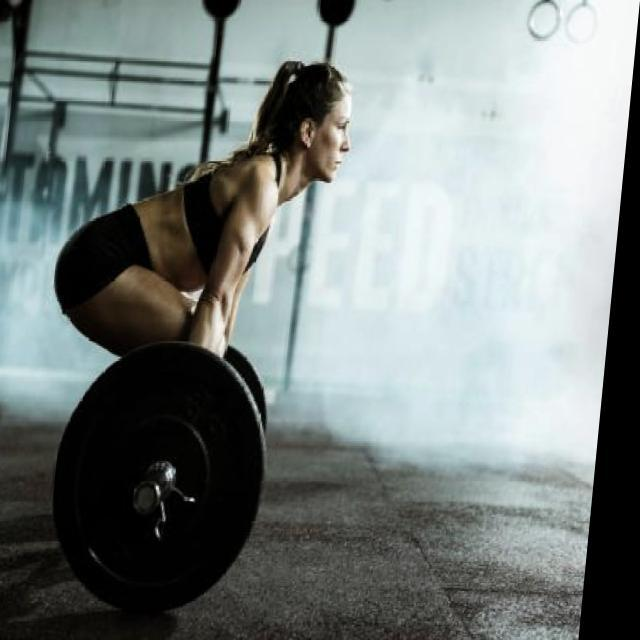barbell: (55, 327, 189, 521)
